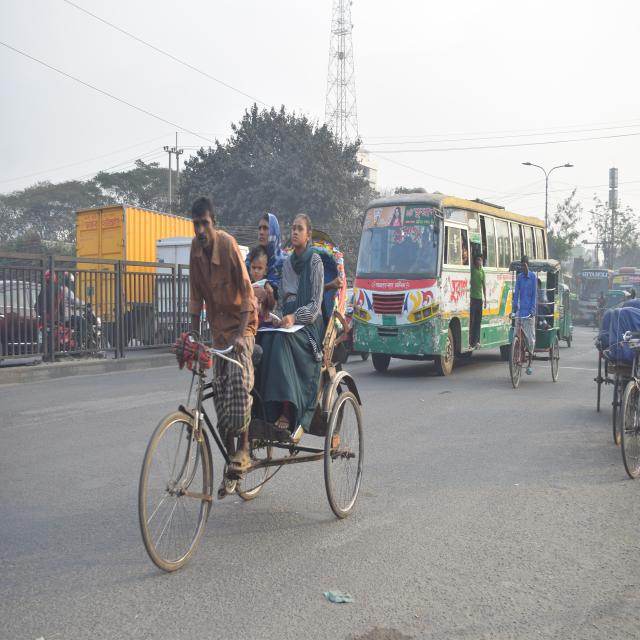bus: (352, 181, 511, 375), (577, 266, 609, 326), (612, 265, 638, 303)
